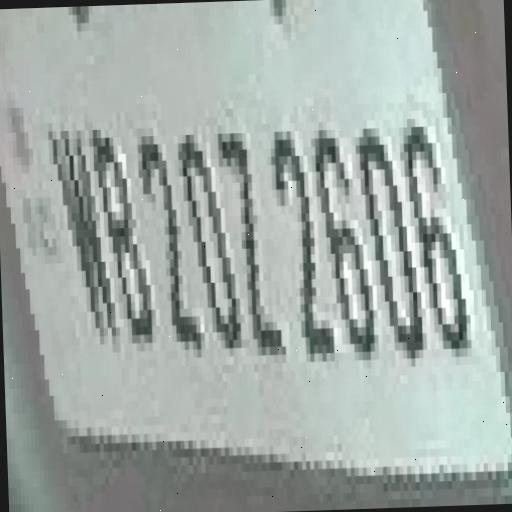number plate: (7, 0, 512, 470)
